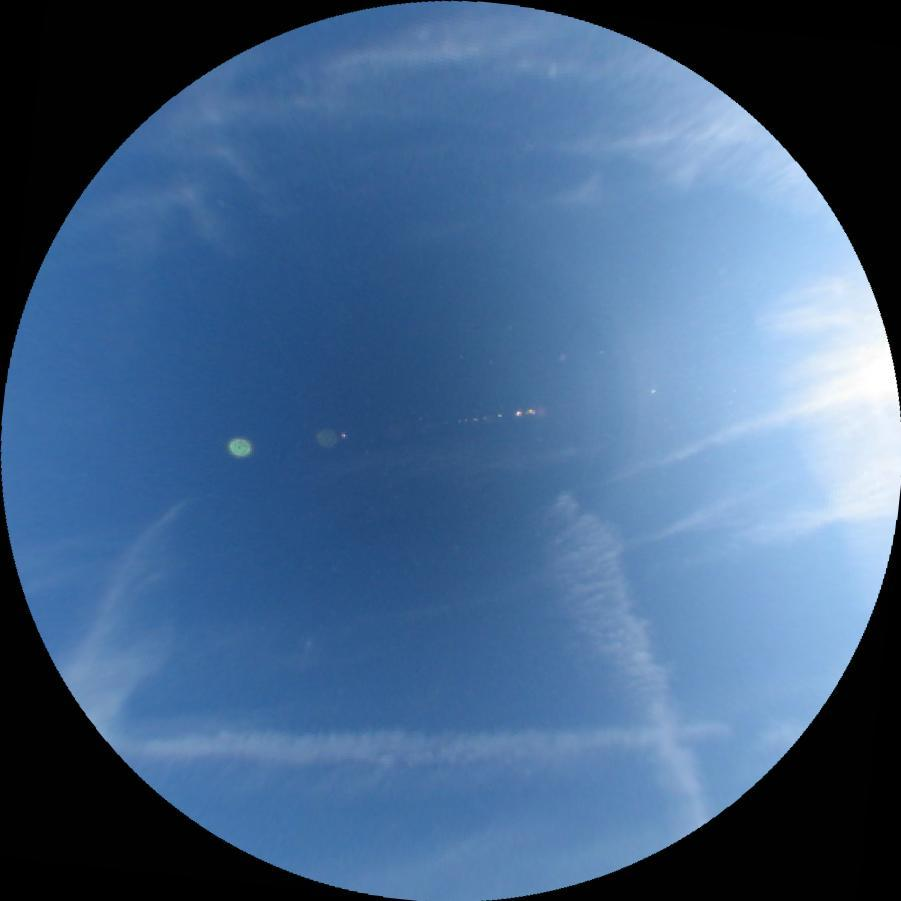contrail veryold: (527, 473, 743, 838), (750, 261, 901, 593), (109, 719, 728, 768)
